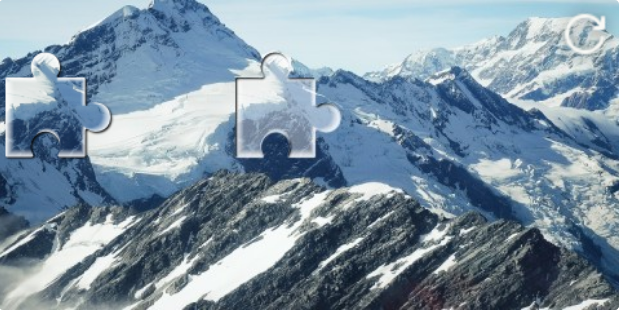target: (236, 52, 342, 158)
